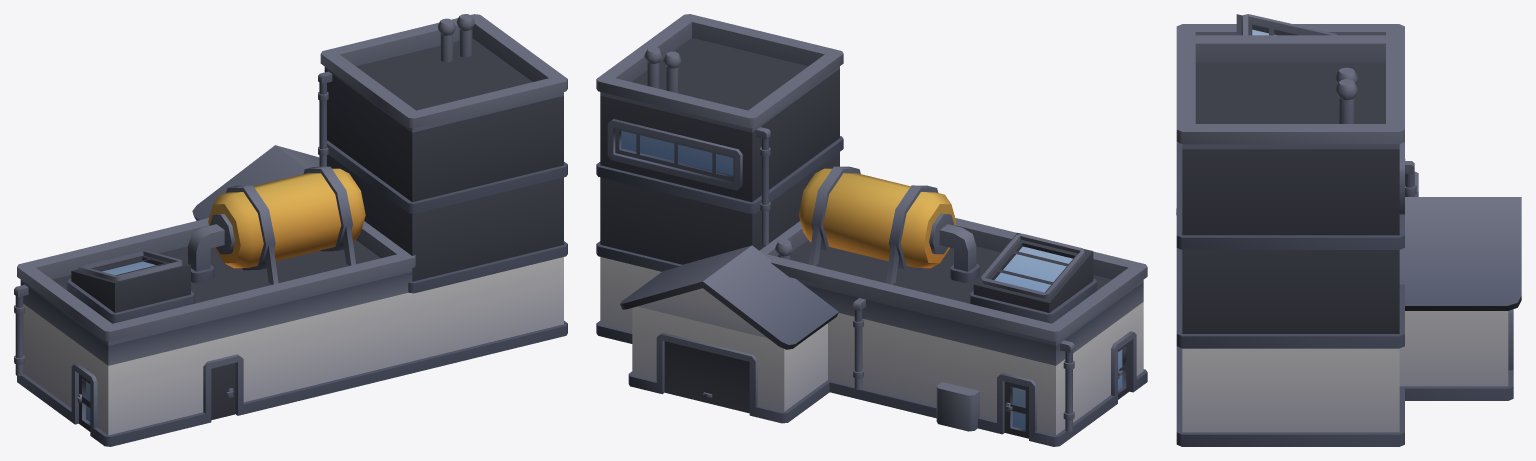
Rendered from building-r.glb.
3 renders of one model, left to right at view 1: azimuth 30°, elevation 25°; view 2: azimuth 150°, elevation 25°; view 3: azimuth 270°, elevation 25°, orthographic. The views are drawn at different scales.
Visible parts, largest first — view 1: building-r; view 2: building-r; view 3: building-r.
Boxes of the visible parts, x1=… form: building-r: x1=14, y1=14, x2=567, y2=446; building-r: x1=596, y1=14, x2=1147, y2=446; building-r: x1=1176, y1=14, x2=1521, y2=446.
Bounding box in the file's own units: 2.48 × 1.39 × 1.27.
